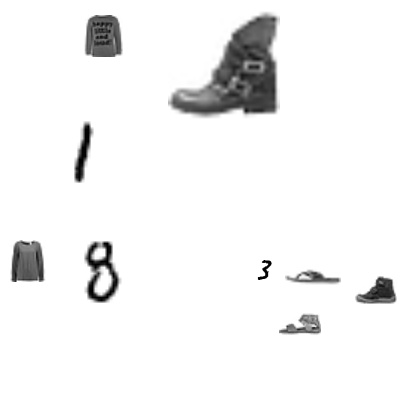1: (39, 110, 123, 194)
3: (251, 255, 279, 283)
8: (58, 230, 142, 314)
Ankle_boot: (168, 9, 280, 121), (355, 269, 397, 311)
Pullover: (82, 15, 124, 57)
Sandal: (285, 248, 341, 304), (279, 303, 321, 345)
Shirt: (6, 240, 48, 282)
